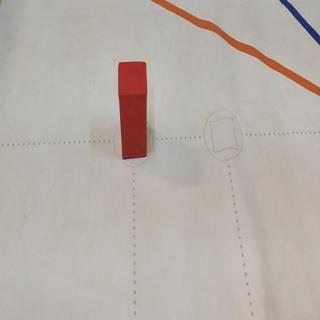redbox: (119, 61, 146, 159)
